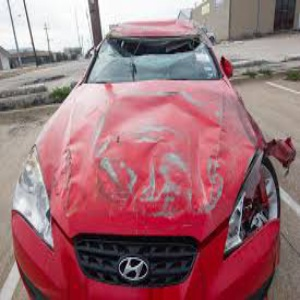bonnet: (56, 91, 234, 225)
front_windshield_glass: (98, 33, 214, 79)
